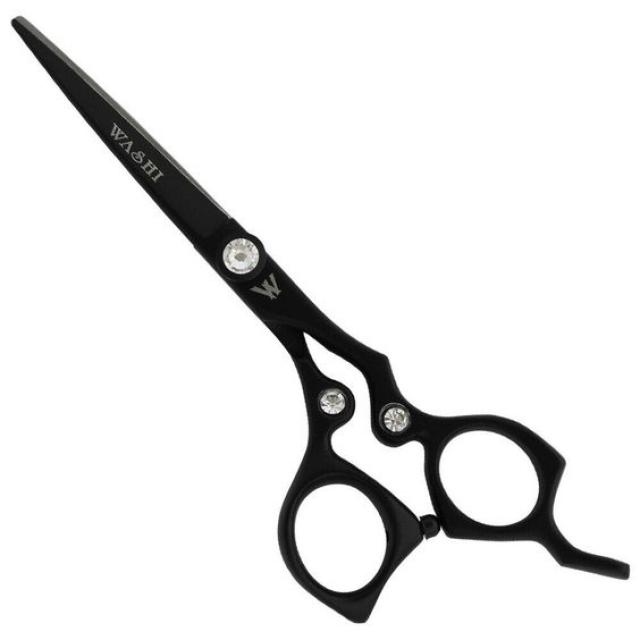Gunting: (5, 12, 632, 625)
